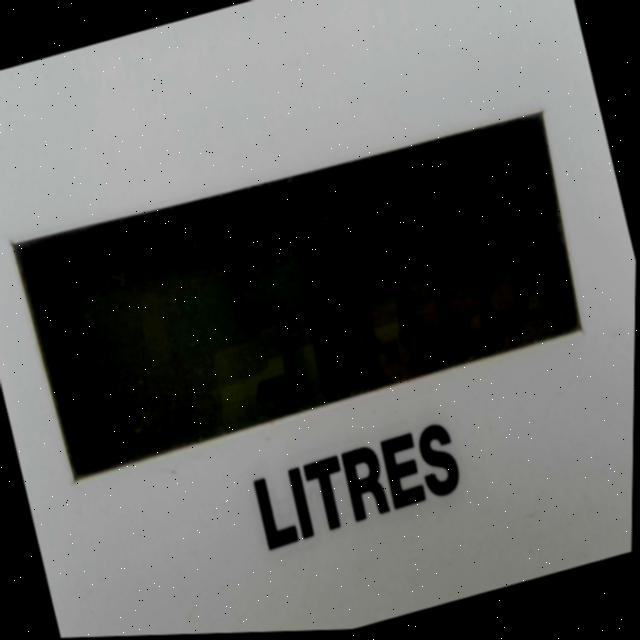.: (382, 341, 408, 380)
0: (446, 149, 553, 351), (362, 178, 473, 371)
4: (294, 195, 395, 384)
5: (209, 203, 322, 427)
